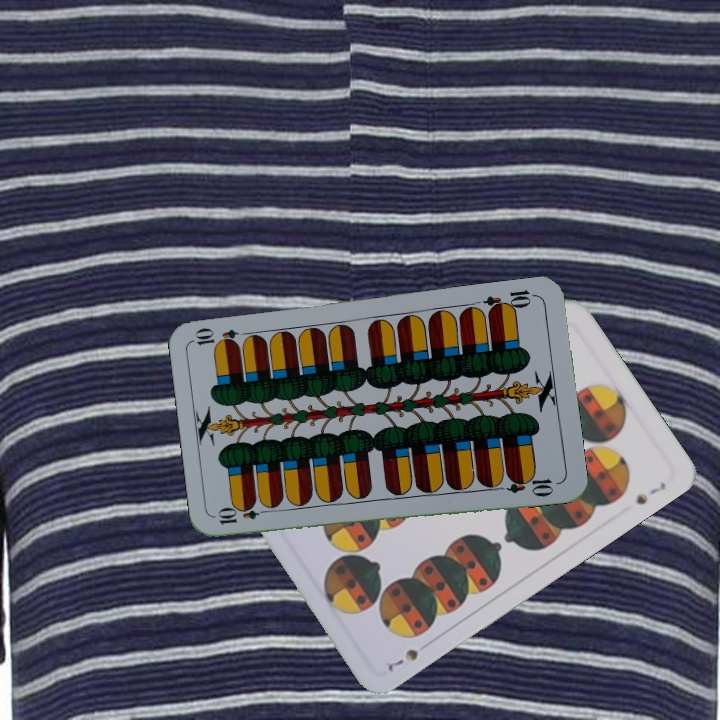E10: (480, 286, 539, 317), (214, 503, 273, 527)
S7: (381, 644, 421, 674)
